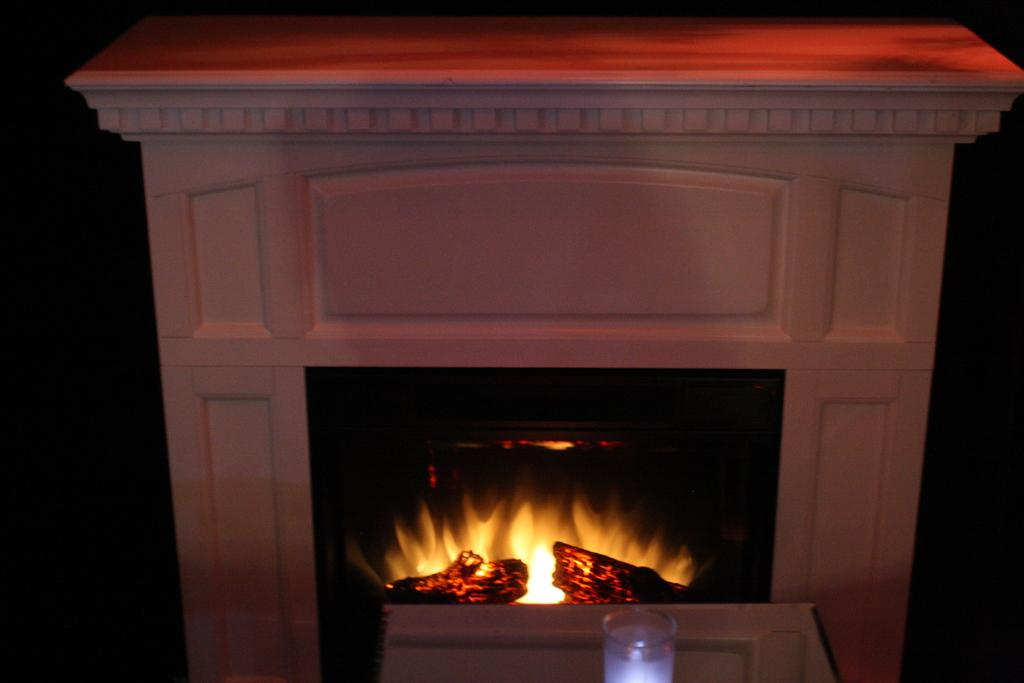Fire: (353, 471, 717, 607)
